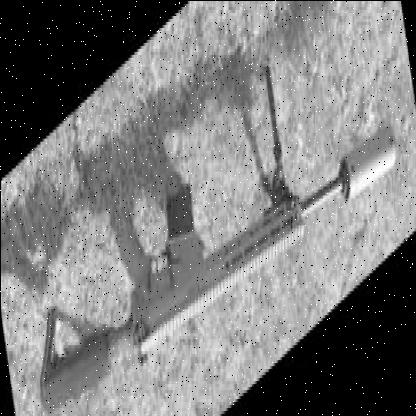rifle: (33, 0, 405, 416)
